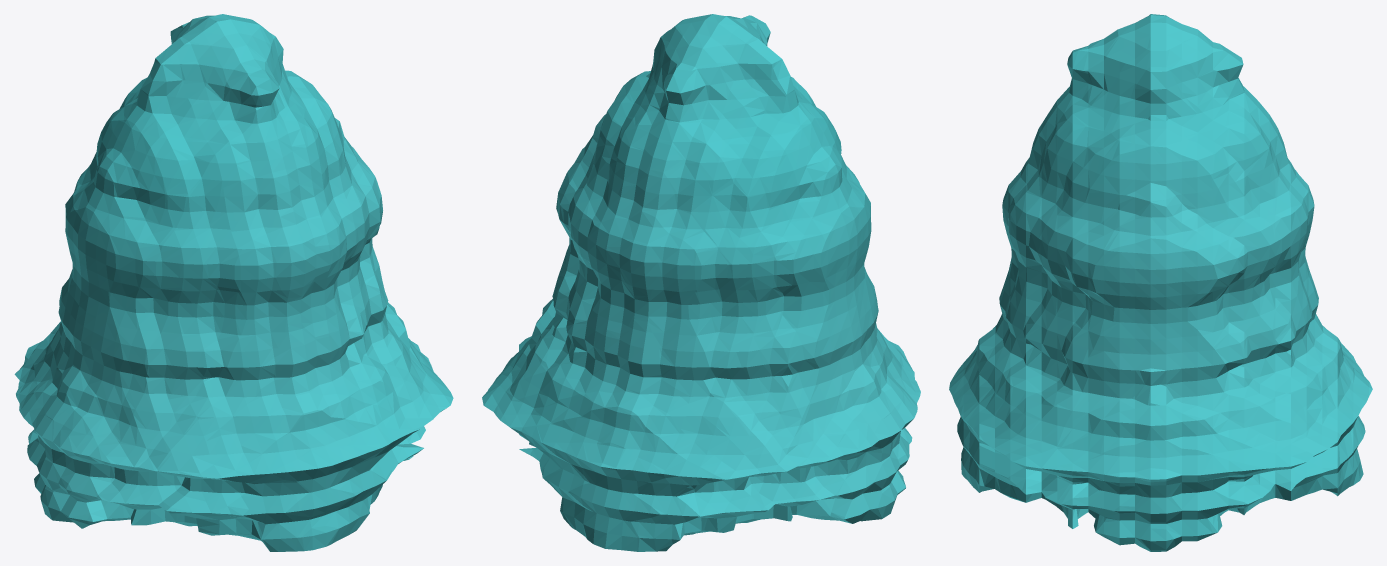
3 renders of one model, left to right at view 1: azimuth 30°, elevation 25°; view 2: azimuth 150°, elevation 25°; view 3: azimuth 270°, elevation 25°, orthographic.
Parts seen in each view (by area): view 1: geometry_0; view 2: geometry_0; view 3: geometry_0.
Boxes of the visible parts, x1,y1,x2,y2 form: geometry_0: (14, 14, 453, 551); geometry_0: (482, 14, 920, 551); geometry_0: (949, 14, 1372, 551).
Bounding box in the file's own units: 1.17 × 1.4 × 1.16.
